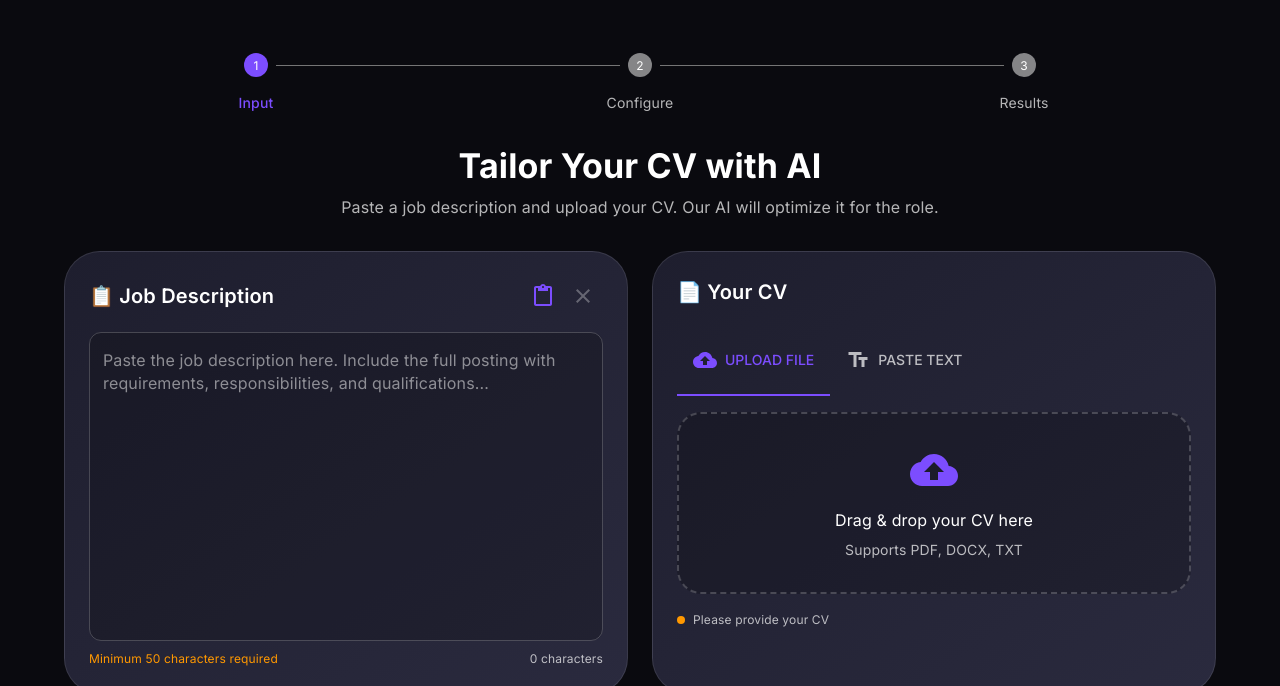
Test case: App › moves from input step to configure step with real input text
The width and height of the screenshot is (1280, 686).
Replace the text in the text box with placeholder "Paste the job description here" with "Senior Backend Engineer We are looking for a Senior Backend Engineer to build resilient APIs, improve platform reliability, and work closely with product and frontend engineers. You should have strong": (346, 486) [103,348,589,624]
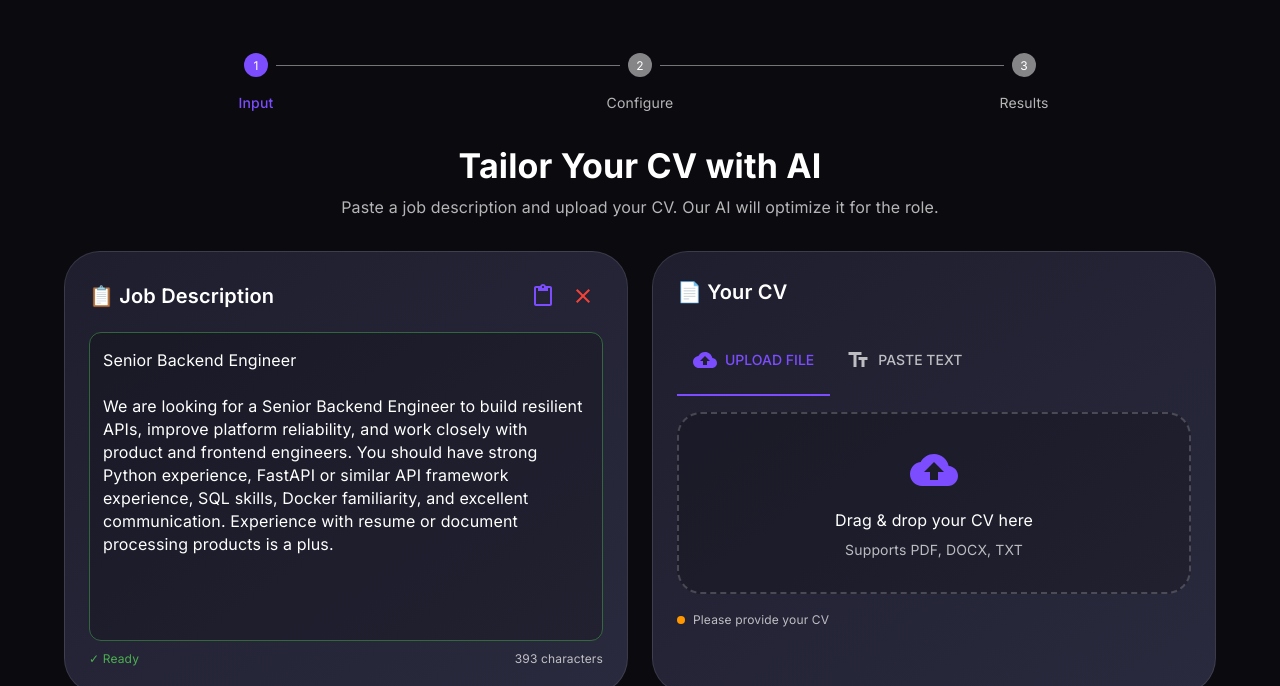
Click the tab "Paste Text": (904, 360) [830,324,978,396]
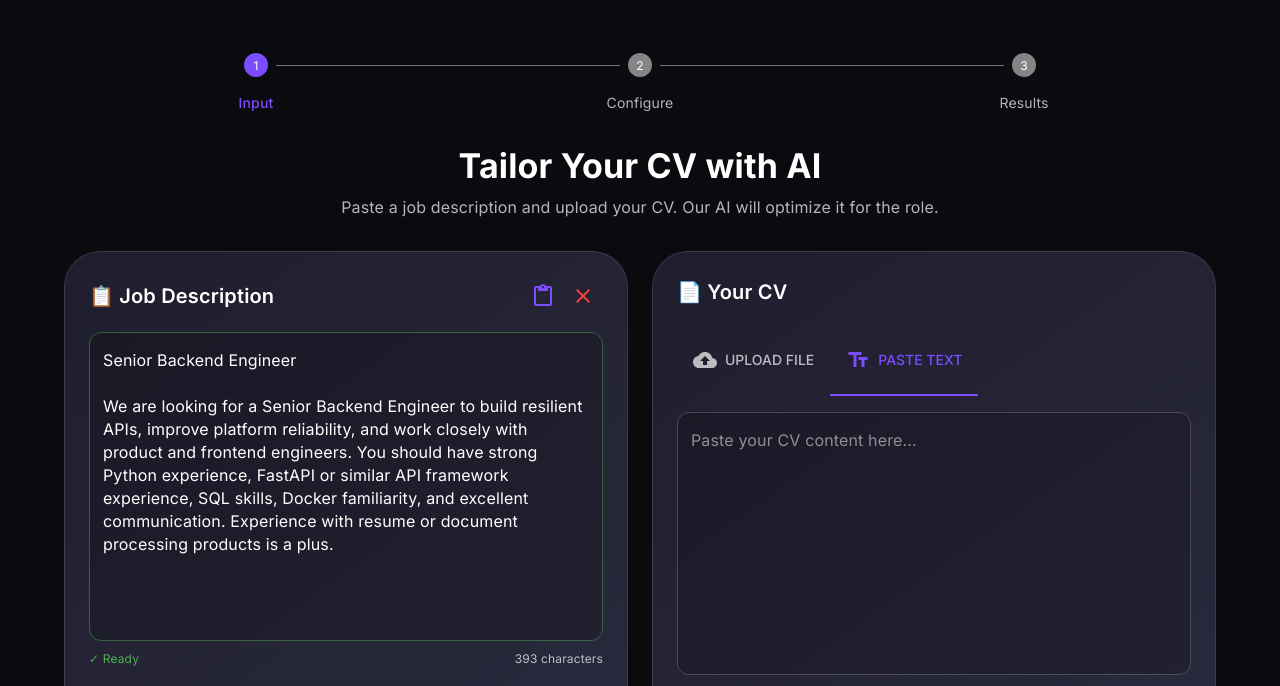
In the text box with placeholder "Paste your CV content here...": (934, 544) [691,428,1177,658], type "Alex Taylor alex.taylor@example.com | +1 555 123 4567 | Austin, TX SUMMARY Backend engineer with experience building Python APIs, document workflows, and internal tools. EXPERIENCE Acme Systems Senior"
(page scrolled)
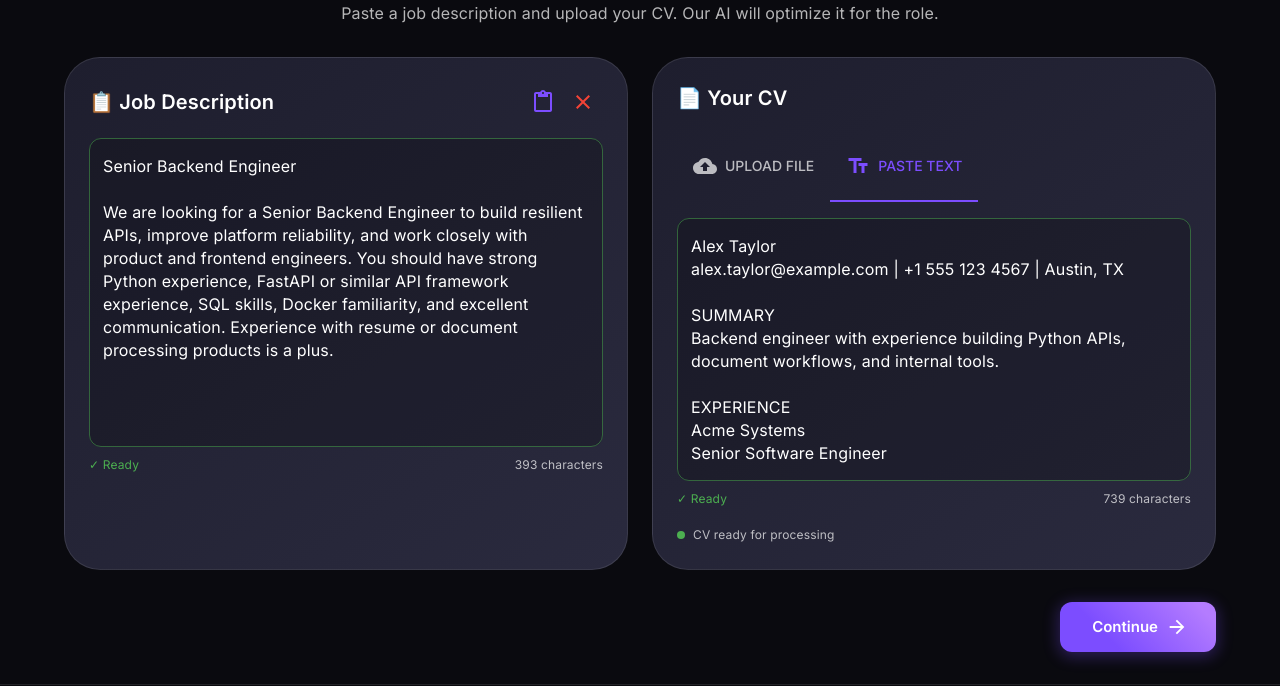
Click the button "Continue": (1138, 627) [1060,602,1216,652]
(page scrolled)
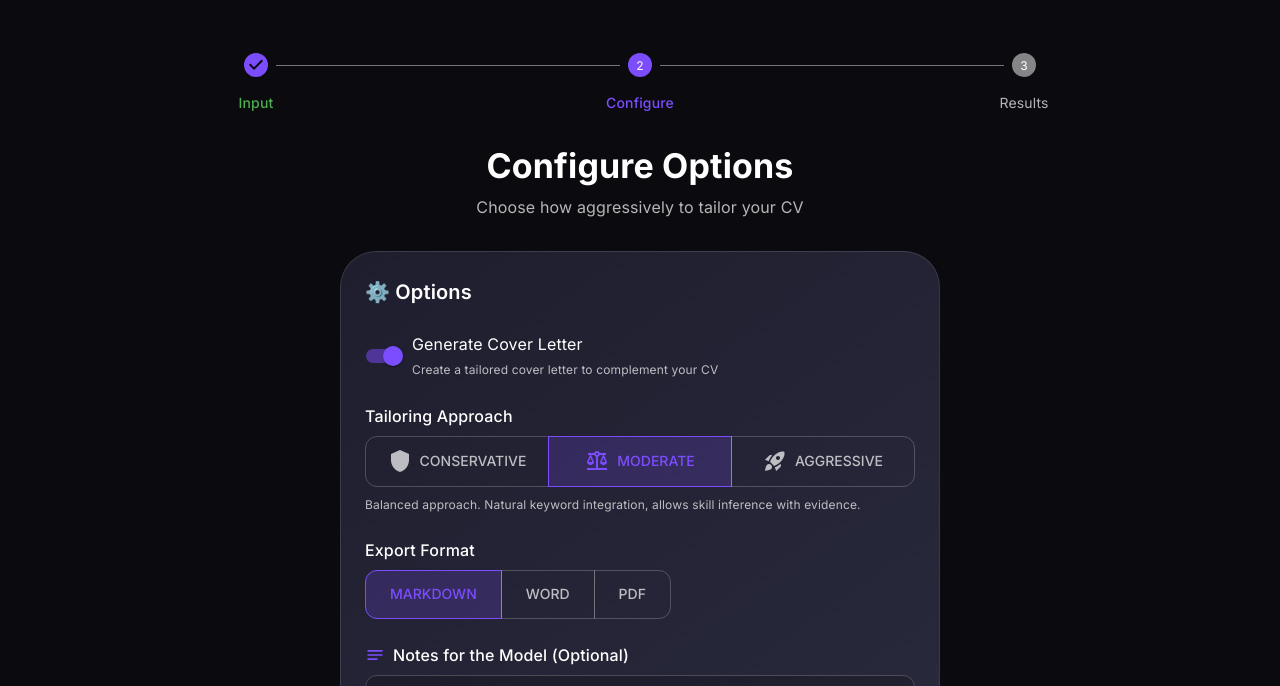
Now the heading "Configure Options" is shown, box [486,145,794,186]
